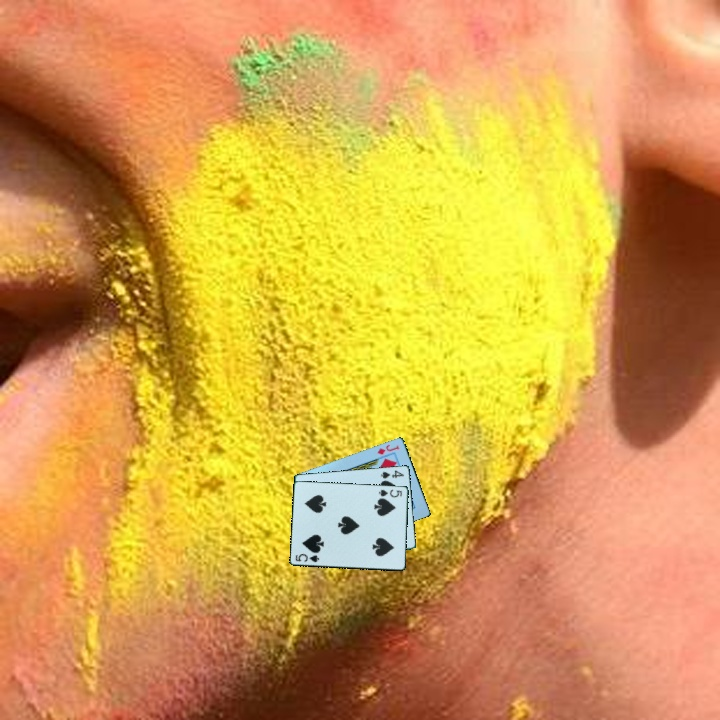4s: (378, 467, 407, 481)
5s: (292, 550, 322, 565), (375, 486, 405, 500)
Jd: (374, 441, 402, 457)
